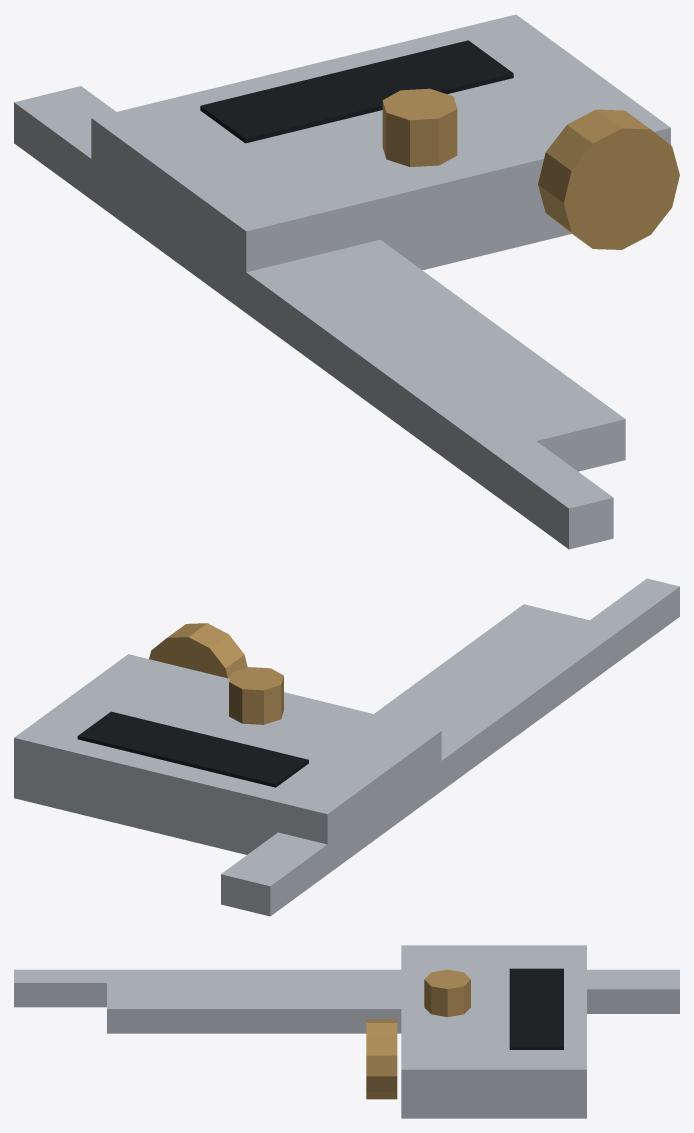
File: Prop_Survey_Calipers_Jaw.glb
The picture shows the model from 3 angles, top to bottom: view 1: azimuth 30°, elevation 25°; view 2: azimuth 150°, elevation 25°; view 3: azimuth 270°, elevation 25°; orthographic projection. The views are drawn at different scales.
Visible parts, largest first — view 1: Prop_Survey_Calipers_Jaw; view 2: Prop_Survey_Calipers_Jaw; view 3: Prop_Survey_Calipers_Jaw.
Boxes of the visible parts, x1,y1,x2,y2 form: Prop_Survey_Calipers_Jaw: (14, 14, 679, 549); Prop_Survey_Calipers_Jaw: (14, 578, 679, 916); Prop_Survey_Calipers_Jaw: (14, 945, 679, 1118).
Size of what is drawn, in the model's own units: 0.038 by 0.011 by 0.086.
